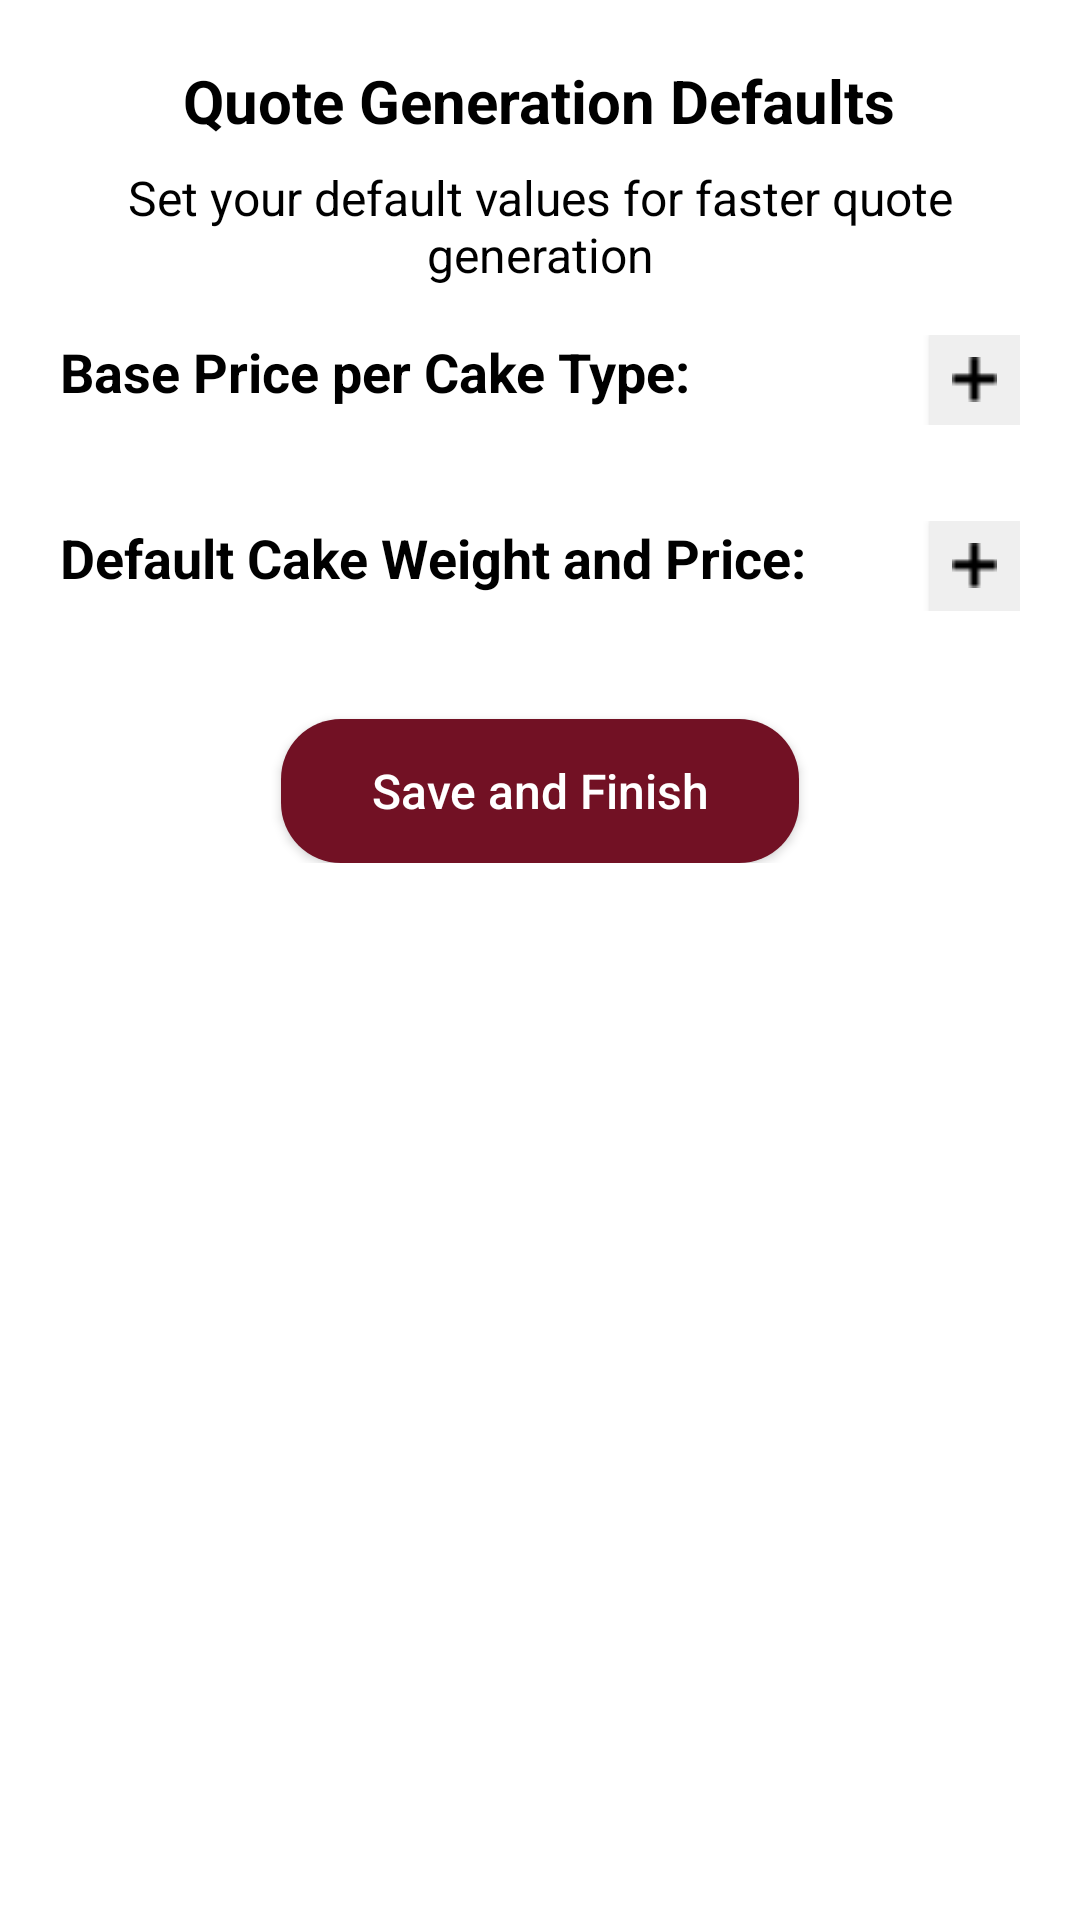

Named icons in this screenshot (1080w x 1920h) and their centers, (x,y):
Add base prices: (974,379), (974,565)
